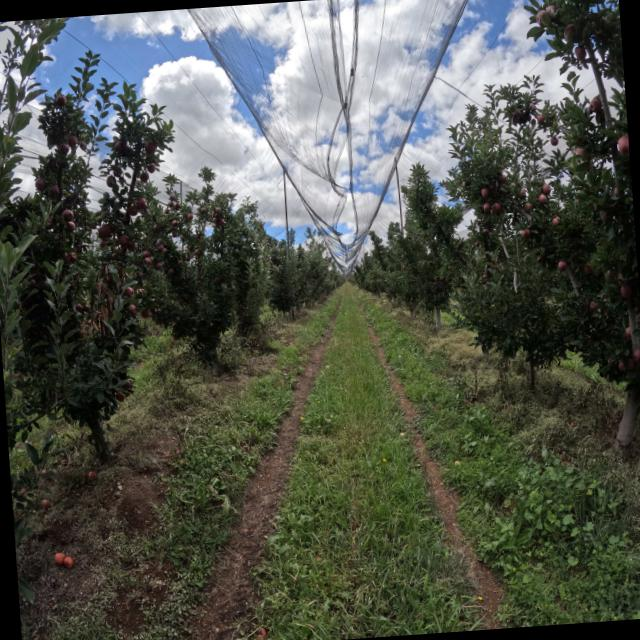-FireBlight-: (80, 259, 115, 344)
